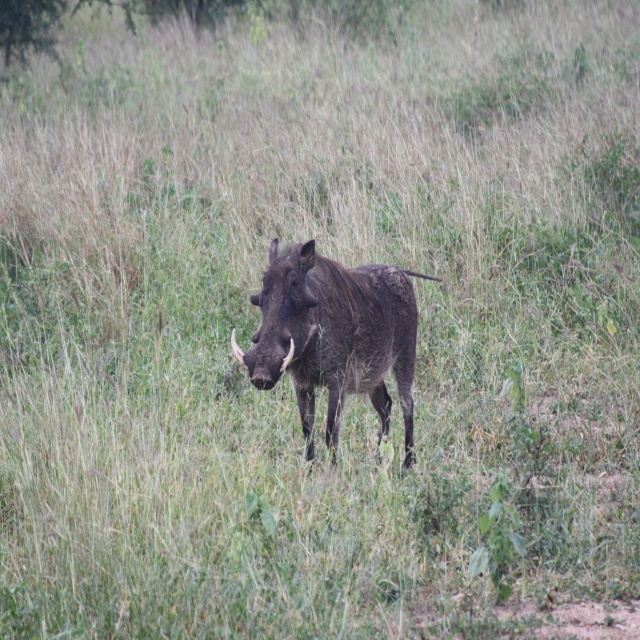Pig: (231, 237, 443, 473)
